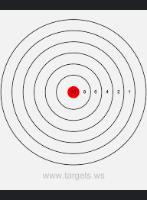bulls eye: (2, 19, 147, 170)
